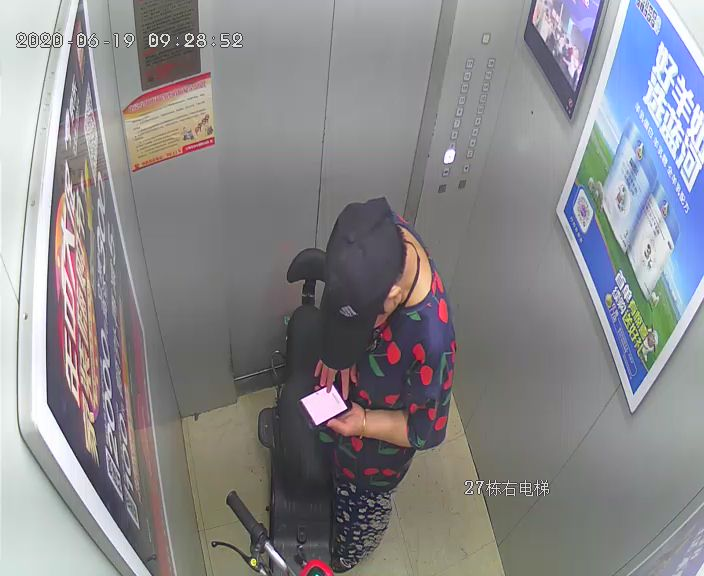Electric-bicycle: (205, 251, 358, 576)
